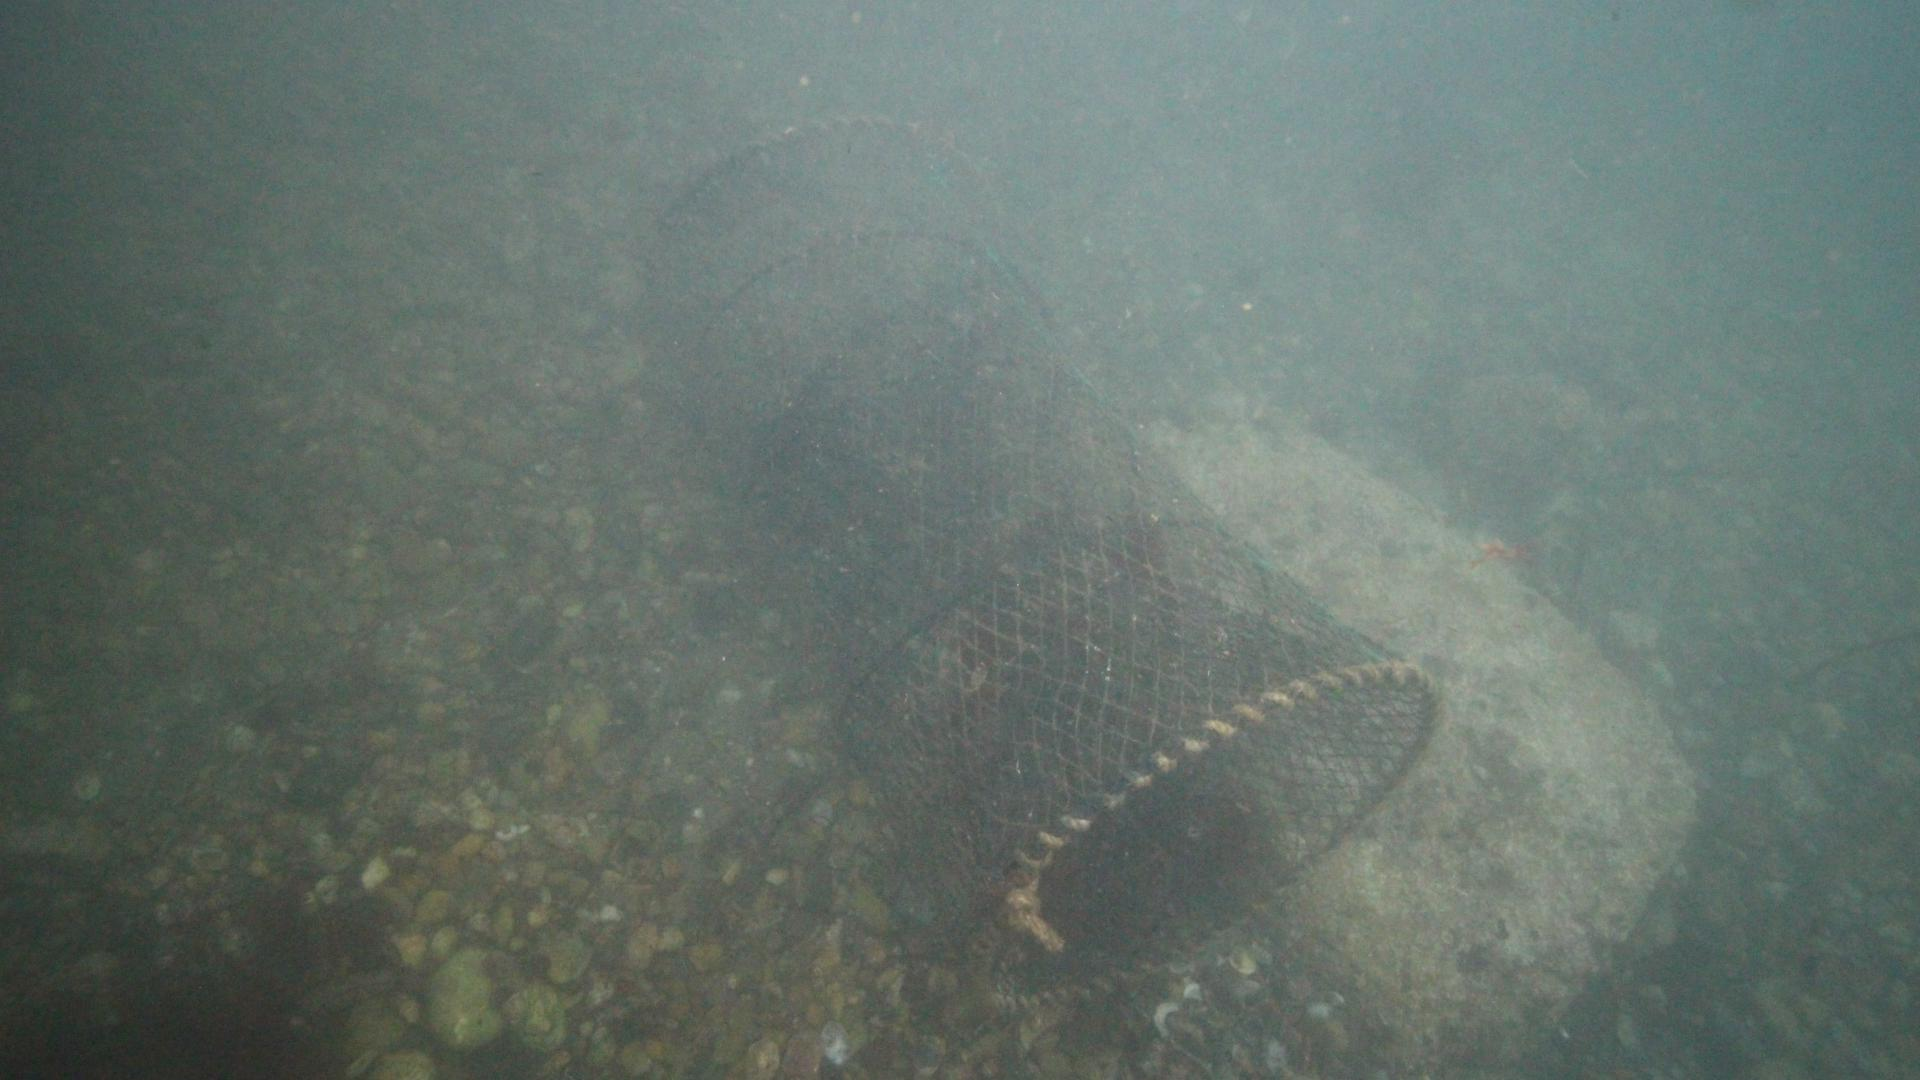spring fish trap: (654, 117, 1437, 1015)
